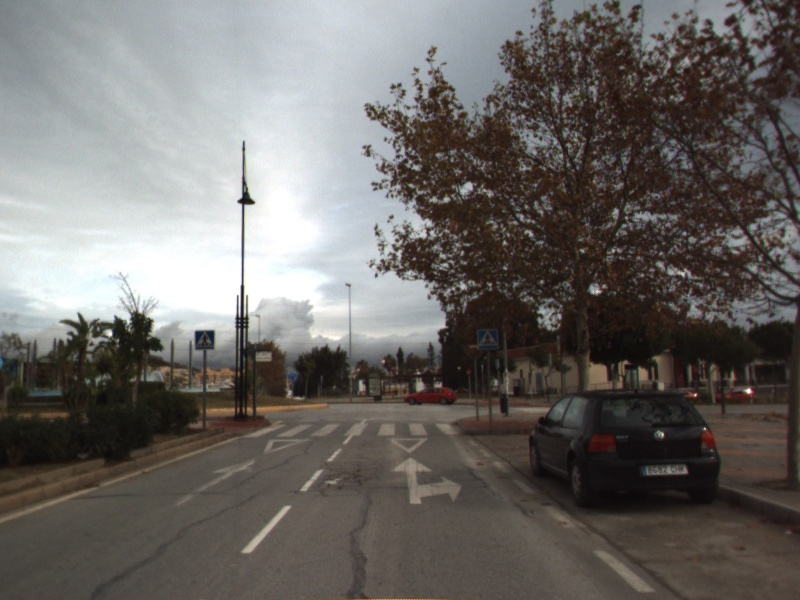STRAIGHT: (171, 456, 257, 508)
STRAIGHT_RIGHT: (388, 455, 464, 506)
